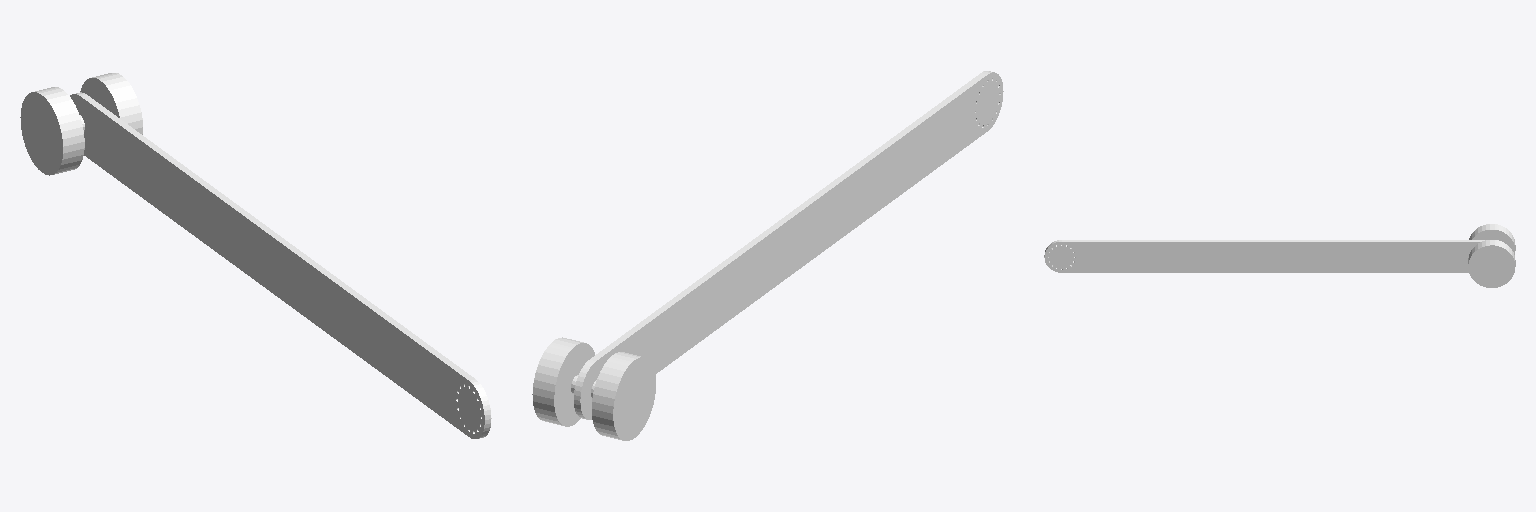
robot.urdf — URDF1:
<?xml version="1.0" encoding="utf-8"?>
<!-- This URDF was automatically created by SolidWorks to URDF Exporter! Originally created by [author] ([email redacted]) 
     Commit Version: 1.6.0-4-g7f85cfe  Build Version: 1.6.7995.38578
     For more information, please see http://wiki.ros.org/sw_urdf_exporter -->
<robot
  name="URDF1">
  <link
    name="base_link">
    <inertial>
      <origin
        xyz="0.274094822191322 0.0639060996016548 0.3"
        rpy="0 0 0" />
      <mass
        value="0.112521174897847" />
      <inertia
        ixx="0.00040530239751746"
        ixy="5.31236534484268E-20"
        ixz="-4.32353418613623E-20"
        iyy="0.000203247343410457"
        iyz="6.2119325298172E-22"
        izz="0.000202523807800988" />
    </inertial>
    <visual>
      <origin
        xyz="0 0 0"
        rpy="0 0 0" />
      <geometry>
        <mesh
          filename="package://URDF1/meshes/base_link.STL" />
      </geometry>
      <material
        name="">
        <color
          rgba="1 1 1 1" />
      </material>
    </visual>
    <collision>
      <origin
        xyz="0 0 0"
        rpy="0 0 0" />
      <geometry>
        <mesh
          filename="package://URDF1/meshes/base_link.STL" />
      </geometry>
    </collision>
  </link>
  <link
    name="Link1">
    <inertial>
      <origin
        xyz="-0.016992506890844 -0.0136502000046986 -0.207171864915906"
        rpy="0 0 0" />
      <mass
        value="0.638168734896677" />
      <inertia
        ixx="0.00491966123792344"
        ixy="1.91971937783003E-06"
        ixz="-2.84277041396912E-05"
        iyy="0.00514092124979509"
        iyz="1.9930165401326E-06"
        izz="0.000366114575233091" />
    </inertial>
    <visual>
      <origin
        xyz="0 0 0"
        rpy="0 0 0" />
      <geometry>
        <mesh
          filename="package://URDF1/meshes/Link1.STL" />
      </geometry>
      <material
        name="">
        <color
          rgba="1 1 1 1" />
      </material>
    </visual>
    <collision>
      <origin
        xyz="0 0 0"
        rpy="0 0 0" />
      <geometry>
        <mesh
          filename="package://URDF1/meshes/Link1.STL" />
      </geometry>
    </collision>
  </link>
  <joint
    name="Joint1"
    type="fixed">
    <origin
      xyz="0.2616 -0.31448 0.073269"
      rpy="0 -1.5708 0" />
    <parent
      link="base_link" />
    <child
      link="Link1" />
    <axis
      xyz="0 0 0" />
  </joint>
</robot>

--- What the picture shows (computed from the rendered views, not written in the file) ---
3 views of the same robot in one strip: view 1: azimuth 30°, elevation 25°; view 2: azimuth 150°, elevation 25°; view 3: azimuth 270°, elevation 25° (orthographic).
Model URDF1 with 2 links and 1 joints (1 fixed), rooted at base_link, posed all joints at 0.
Visible links, largest first — view 1: Link1; view 2: Link1; view 3: Link1.
Boxes of the visible links, x1,y1,x2,y2 form: Link1: [20, 73, 491, 438]; Link1: [532, 71, 1003, 440]; Link1: [1044, 224, 1515, 287].
Bounding box of the posed robot: 0.119 × 1.09 × 0.1099 m (x, y, z).
1 mesh visuals loaded from 2 distinct referenced files (1 binary STL); not drawn: 1 (reference not matched to a file when rendering).